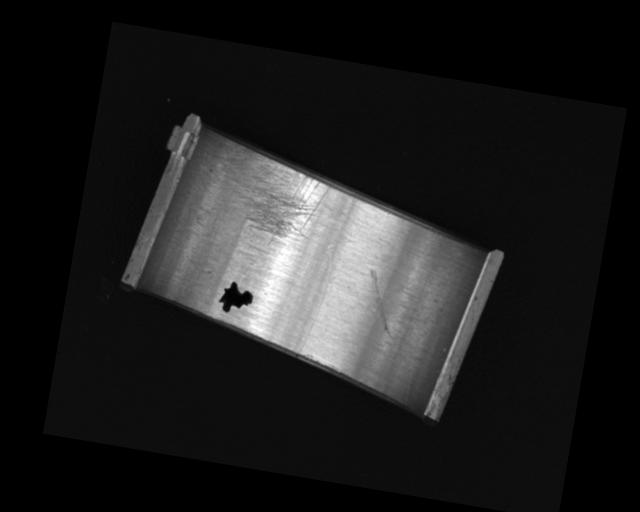blot: (216, 279, 255, 317)
nick: (297, 243, 338, 358), (359, 267, 402, 339)
scratch: (213, 141, 335, 254)
